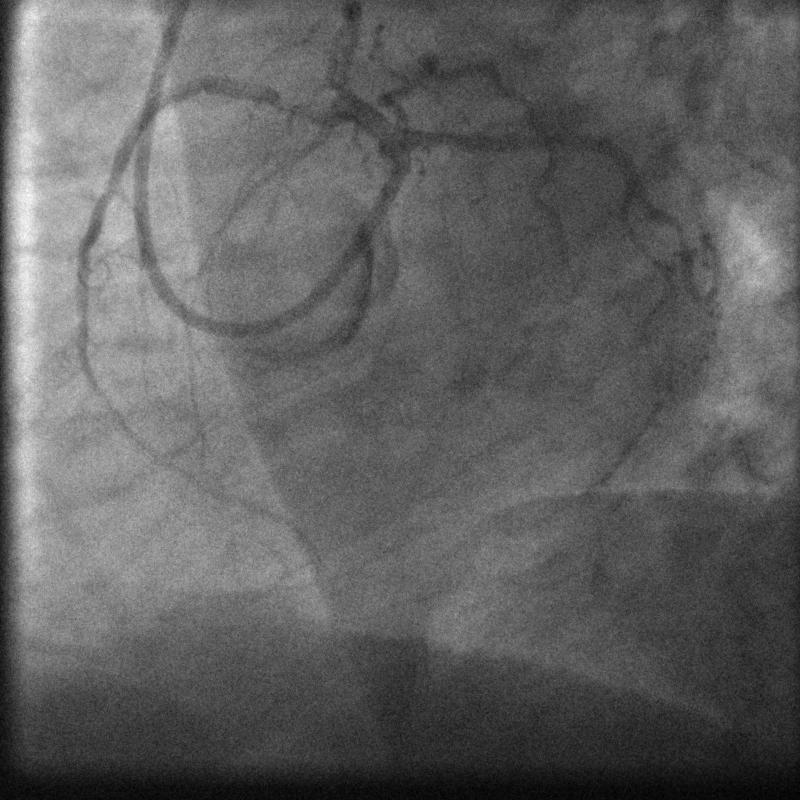Stenosis: (269, 81, 327, 130)
